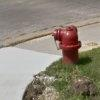Hydrant: (49, 21, 92, 69)
